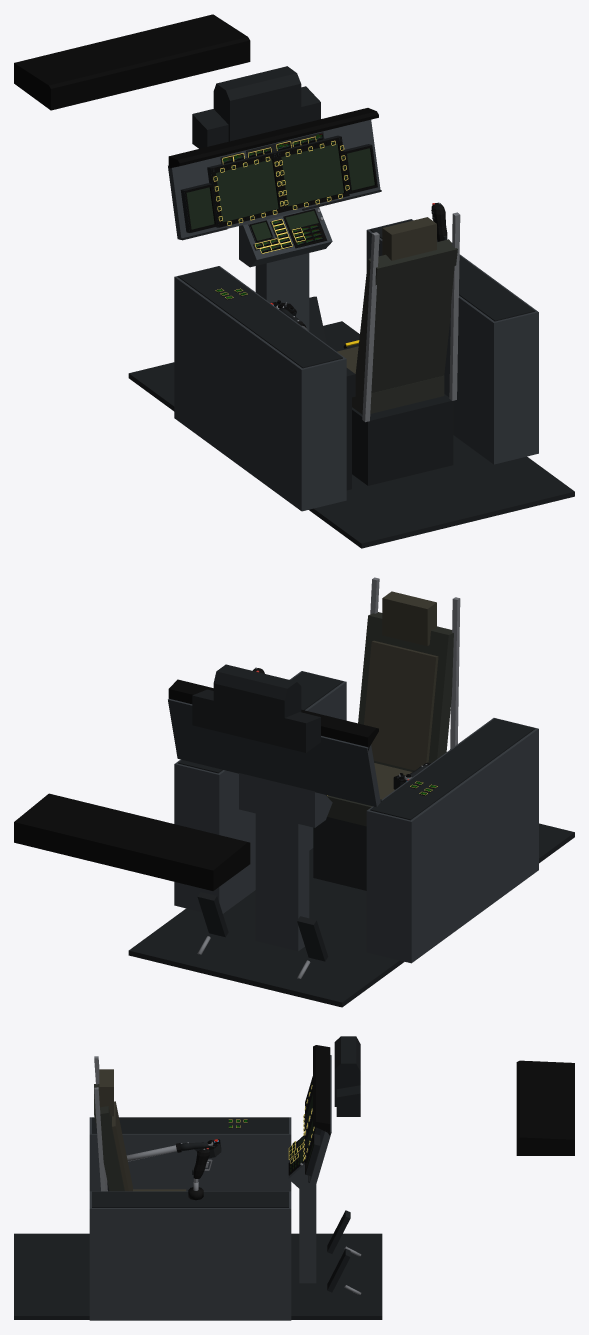
Rendered from cockpit_rah66_cpg.glb.
3 views of the same model, one above another, from view 1: azimuth 30°, elevation 25°; view 2: azimuth 150°, elevation 25°; view 3: azimuth 270°, elevation 25° (orthographic). The views are drawn at different scales.
Parts seen in each view (by area): view 1: panel_grey.003, dark.094, panel_grey.004, black.078, seat_95, dark.097, dark.092, dark.100, panel_grey, screen_left, screen_right, black (+10 smaller); view 2: panel_grey.003, dark.094, black.078, panel_grey, panel_grey.004, cushion_96, panel_grey.002, dark.100, dark.092, seat_95, dark.097, panel_grey.001 (+9 smaller); view 3: panel_grey.004, dark.094, panel_grey.003, black.078, dark.093, dark.092, panel_grey.002, black, dark.100, seat_95, cushion_96, dark.101 (+6 smaller).
Part boxes in pixels (x1,y1,x2,y2): panel_grey.003: [174, 266, 346, 511]; dark.094: [128, 321, 574, 548]; panel_grey.004: [366, 219, 538, 464]; black.078: [14, 14, 250, 110]; seat_95: [355, 239, 457, 398]; dark.097: [352, 394, 453, 485]; dark.092: [178, 266, 342, 368]; dark.100: [213, 66, 301, 141]; panel_grey: [168, 119, 380, 239]; screen_left: [216, 159, 278, 222]; screen_right: [281, 143, 343, 206]; black: [168, 108, 378, 169]; panel_grey.003: [366, 718, 538, 963]; dark.094: [128, 823, 574, 1007]; black.078: [14, 793, 250, 890]; panel_grey: [168, 698, 380, 807]; panel_grey.004: [174, 671, 346, 913]; cushion_96: [364, 640, 438, 770]; panel_grey.002: [255, 813, 309, 951]; dark.100: [213, 664, 301, 745]; dark.092: [370, 718, 535, 820]; seat_95: [358, 612, 453, 771]; dark.097: [313, 817, 366, 890]; panel_grey.001: [239, 773, 332, 827]; panel_grey.004: [89, 1191, 291, 1320]; dark.094: [14, 1233, 382, 1319]; panel_grey.003: [89, 1117, 291, 1191]; black.078: [516, 1060, 574, 1155]; dark.093: [92, 1191, 288, 1207]; dark.092: [92, 1117, 288, 1133]; panel_grey.002: [299, 1188, 316, 1283]; black: [313, 1045, 330, 1135]; dark.100: [334, 1036, 360, 1106]; seat_95: [94, 1084, 124, 1191]; cushion_96: [112, 1101, 132, 1191]; dark.101: [336, 1085, 360, 1116].
Bounding box in the file's own units: 1 × 1.17 × 2.59.
26 materials, 6 textured.
